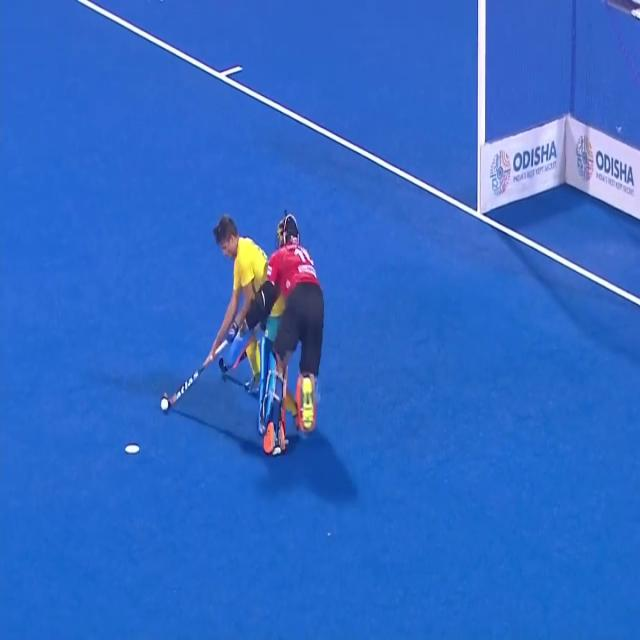ball: (156, 387, 172, 423)
